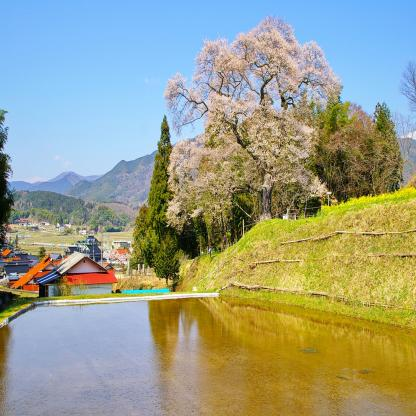EdohiganSakura: (163, 13, 344, 253)
